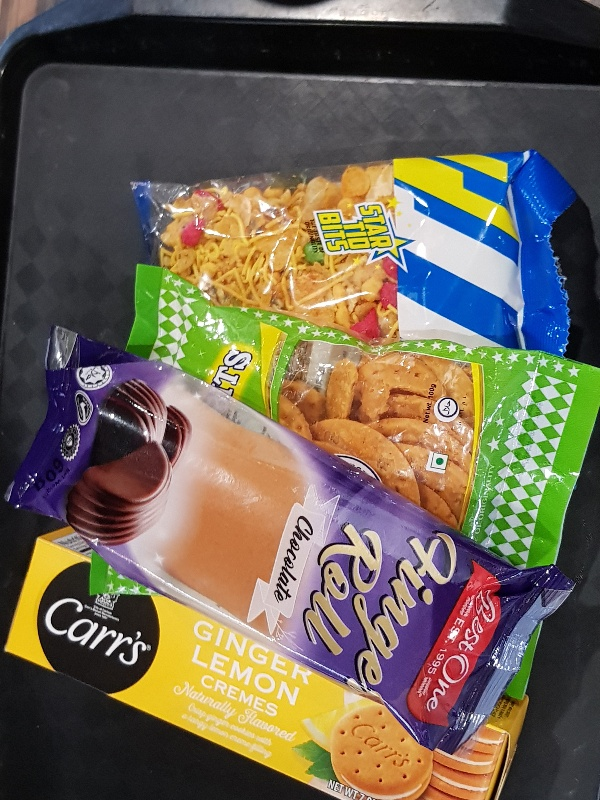Carr's Ginger Lemon Cremes: (1, 525, 529, 800)
Star Tidbits 'O' Ring: (124, 262, 600, 570)
Star Tidbits Mixer: (128, 149, 577, 357)
Tinges Roll Chocolate: (5, 321, 578, 753)
